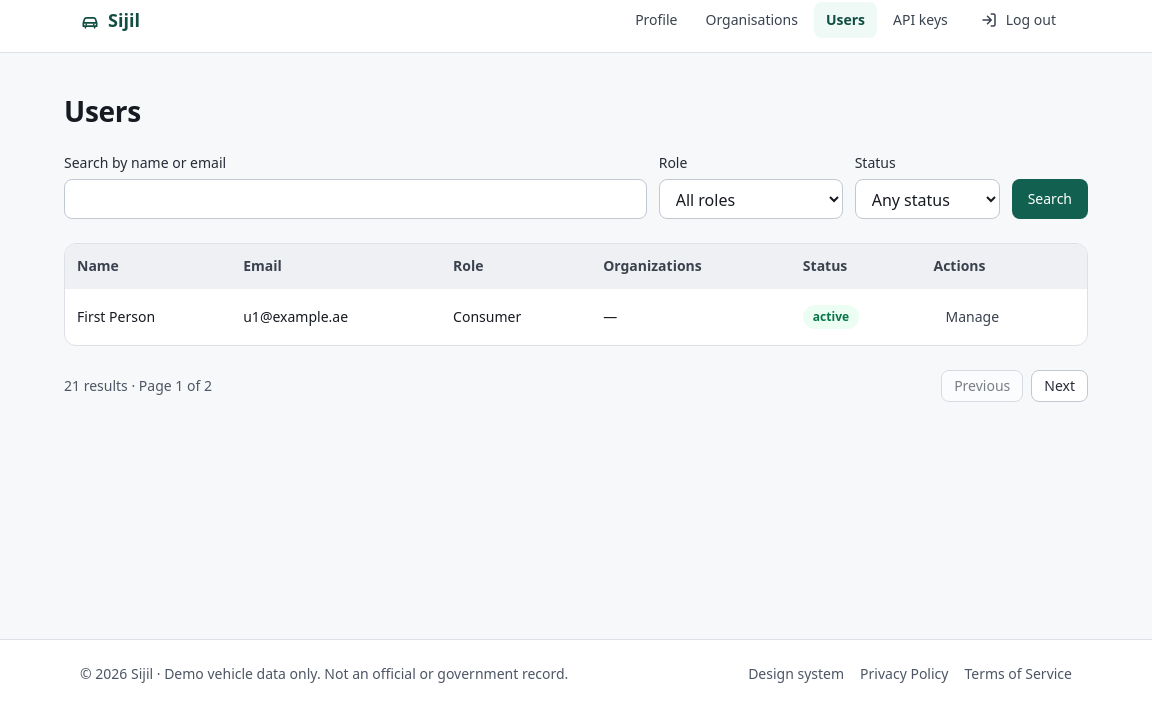
Test case: admin: users › moves back a page when the last user on the last page is deleted
The image size is (1152, 708).
Click the button "Next". click: (1060, 386)
box: left=1031, top=370, right=1088, bottom=402
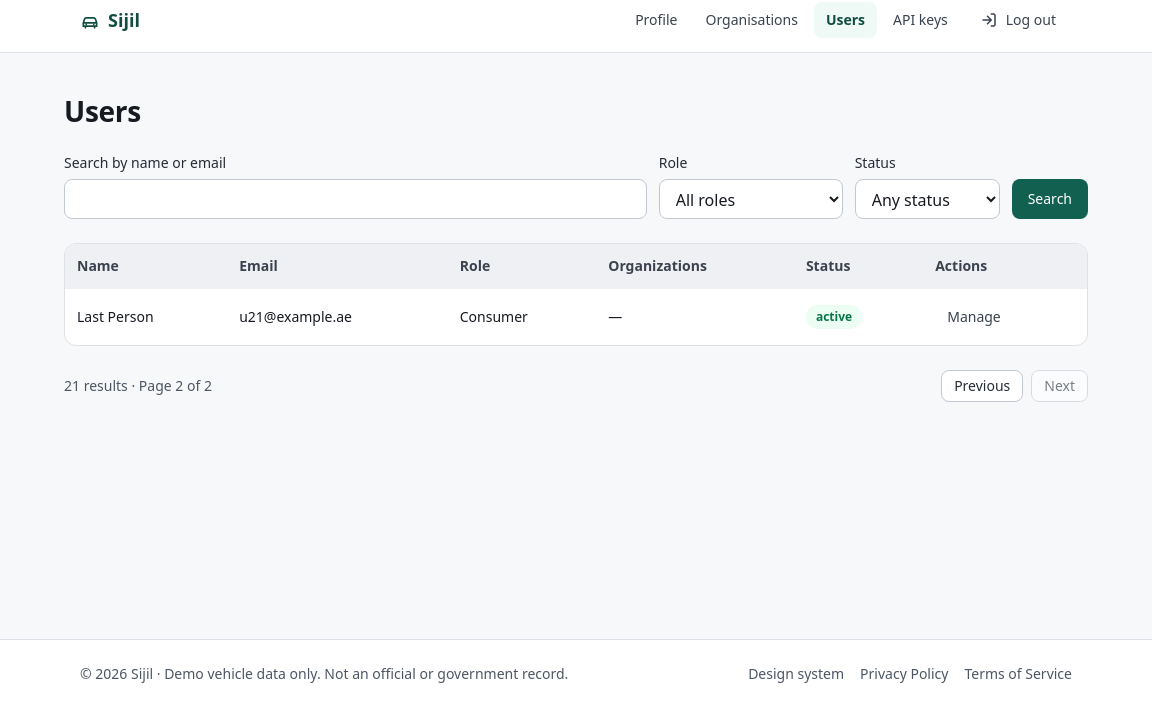
Click the button with aria-label "Manage Last Person". click: (974, 317)
box: left=935, top=301, right=1013, bottom=333
(page scrolled)
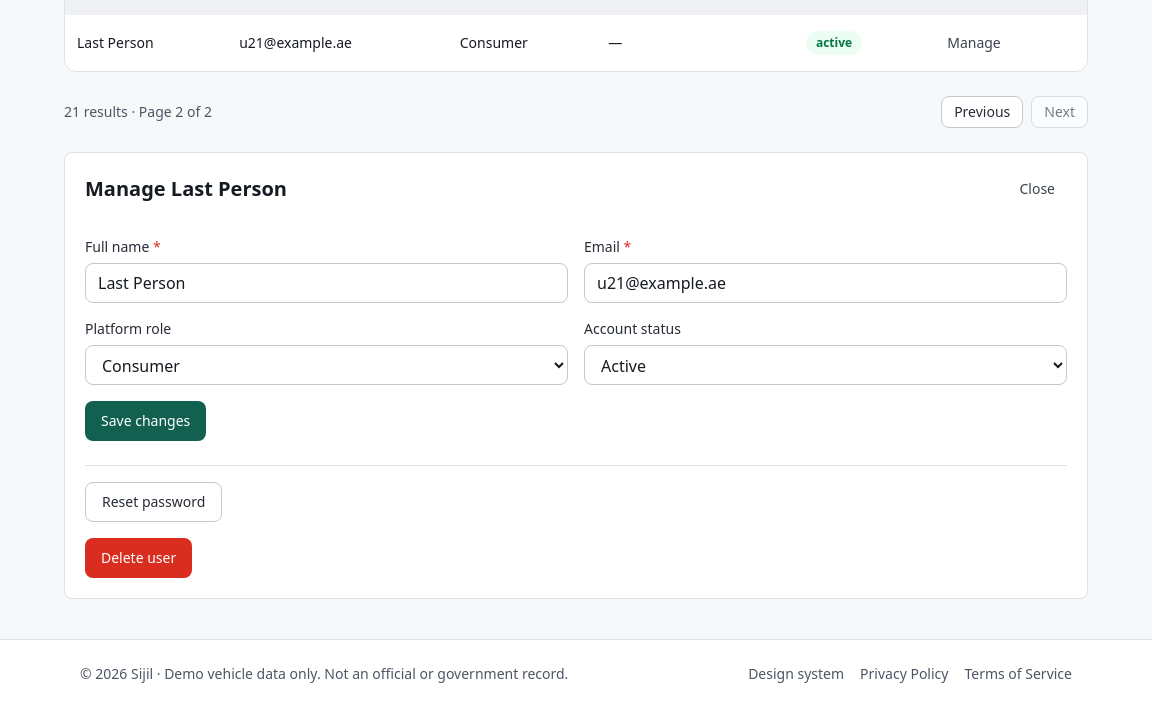
Click the button "Delete user". click: (139, 558)
box: left=85, top=538, right=192, bottom=578
(page scrolled)
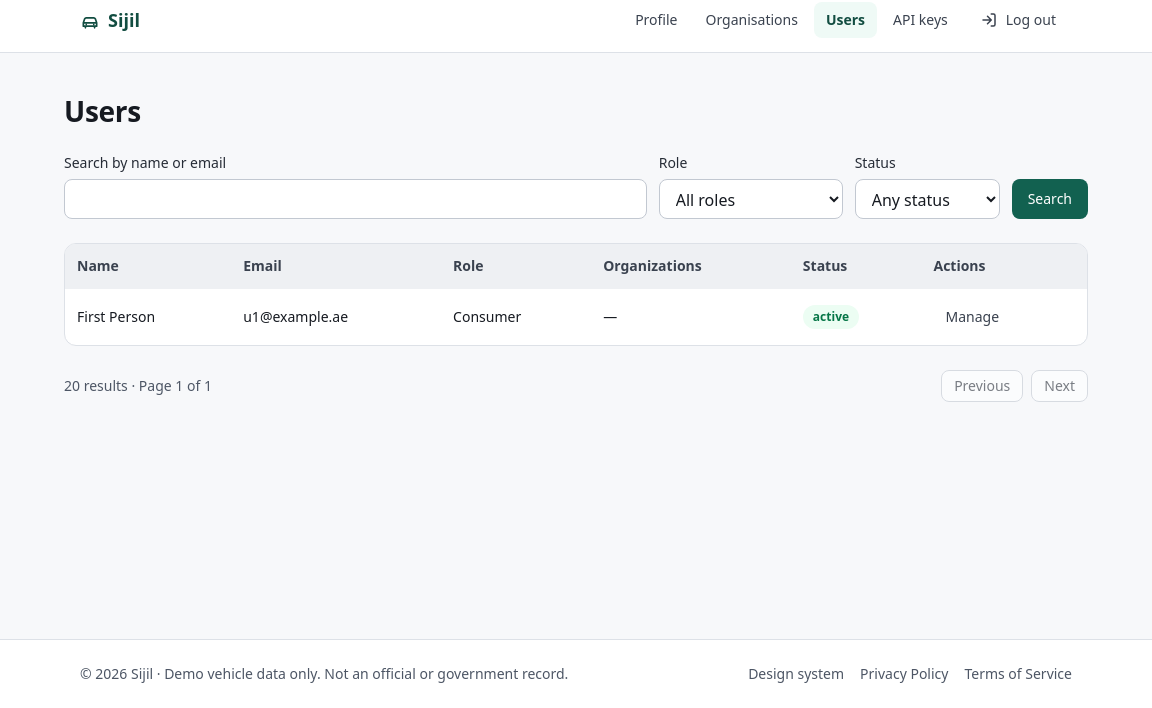
Expected: the text "First Person" is shown, left=65, top=288, right=231, bottom=345
